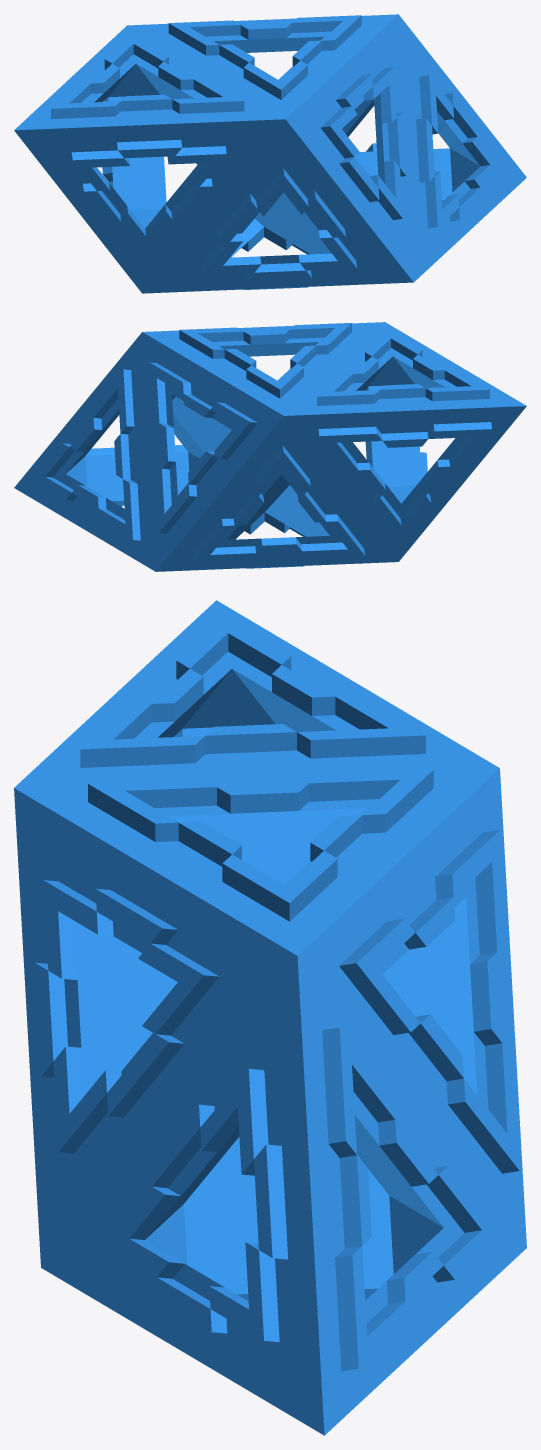
The model's file is theuntitled.obj.
3 views of the same model, one above another, from view 1: azimuth 30°, elevation 25°; view 2: azimuth 150°, elevation 25°; view 3: azimuth 270°, elevation 25° (orthographic). The views are drawn at different scales.
Parts seen in each view (by area): view 1: Mesh1 Model; view 2: Mesh1 Model; view 3: Mesh1 Model.
Boxes of the visible parts, x1,y1,x2,y2 form: Mesh1 Model: [14, 14, 526, 293]; Mesh1 Model: [14, 322, 526, 571]; Mesh1 Model: [14, 600, 526, 1435].
Size of the model in its own units: 166 by 64.79 by 75.65.
